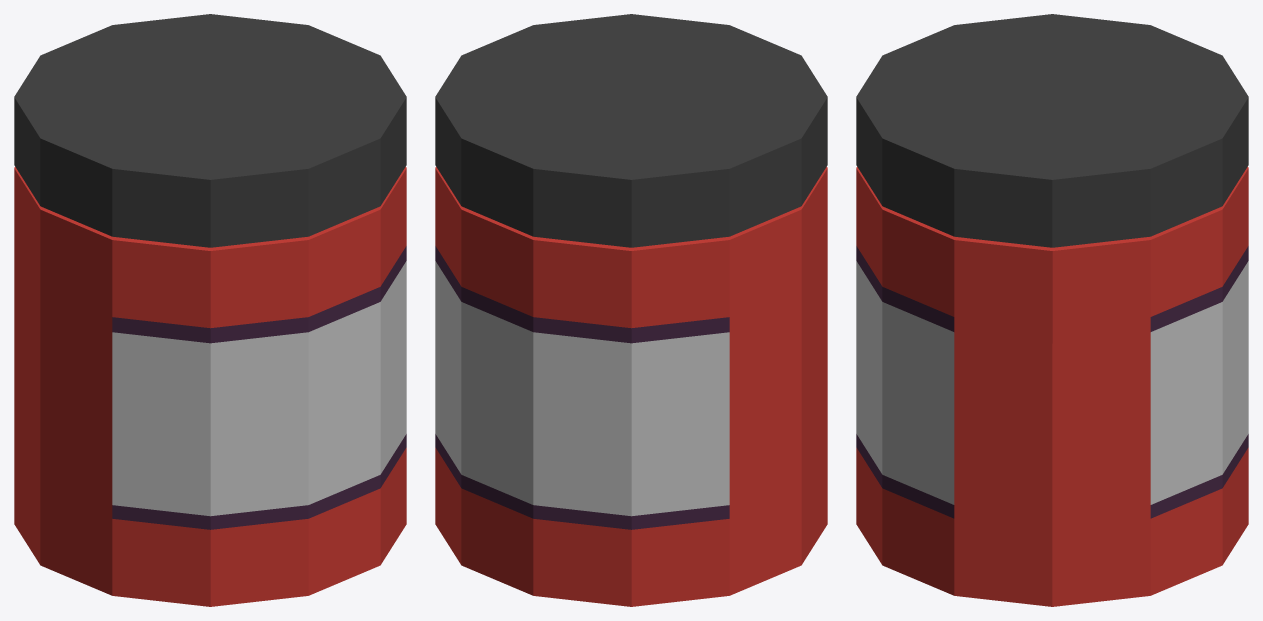
The model's file is Hair Gel.fbx.
3 renders of one model, left to right at view 1: azimuth 30°, elevation 25°; view 2: azimuth 150°, elevation 25°; view 3: azimuth 270°, elevation 25°, orthographic.
Parts seen in each view (by area): view 1: Hair Gel, Lid; view 2: Hair Gel, Lid; view 3: Hair Gel, Lid.
Boxes of the visible parts, left/top/right/bottom form: Hair Gel: left=14, top=167, right=406, bottom=606; Lid: left=14, top=14, right=406, bottom=247; Hair Gel: left=435, top=167, right=827, bottom=606; Lid: left=435, top=14, right=827, bottom=247; Hair Gel: left=856, top=167, right=1248, bottom=606; Lid: left=856, top=14, right=1248, bottom=247.
Bounding box in the file's own units: 100 × 120 × 100.
